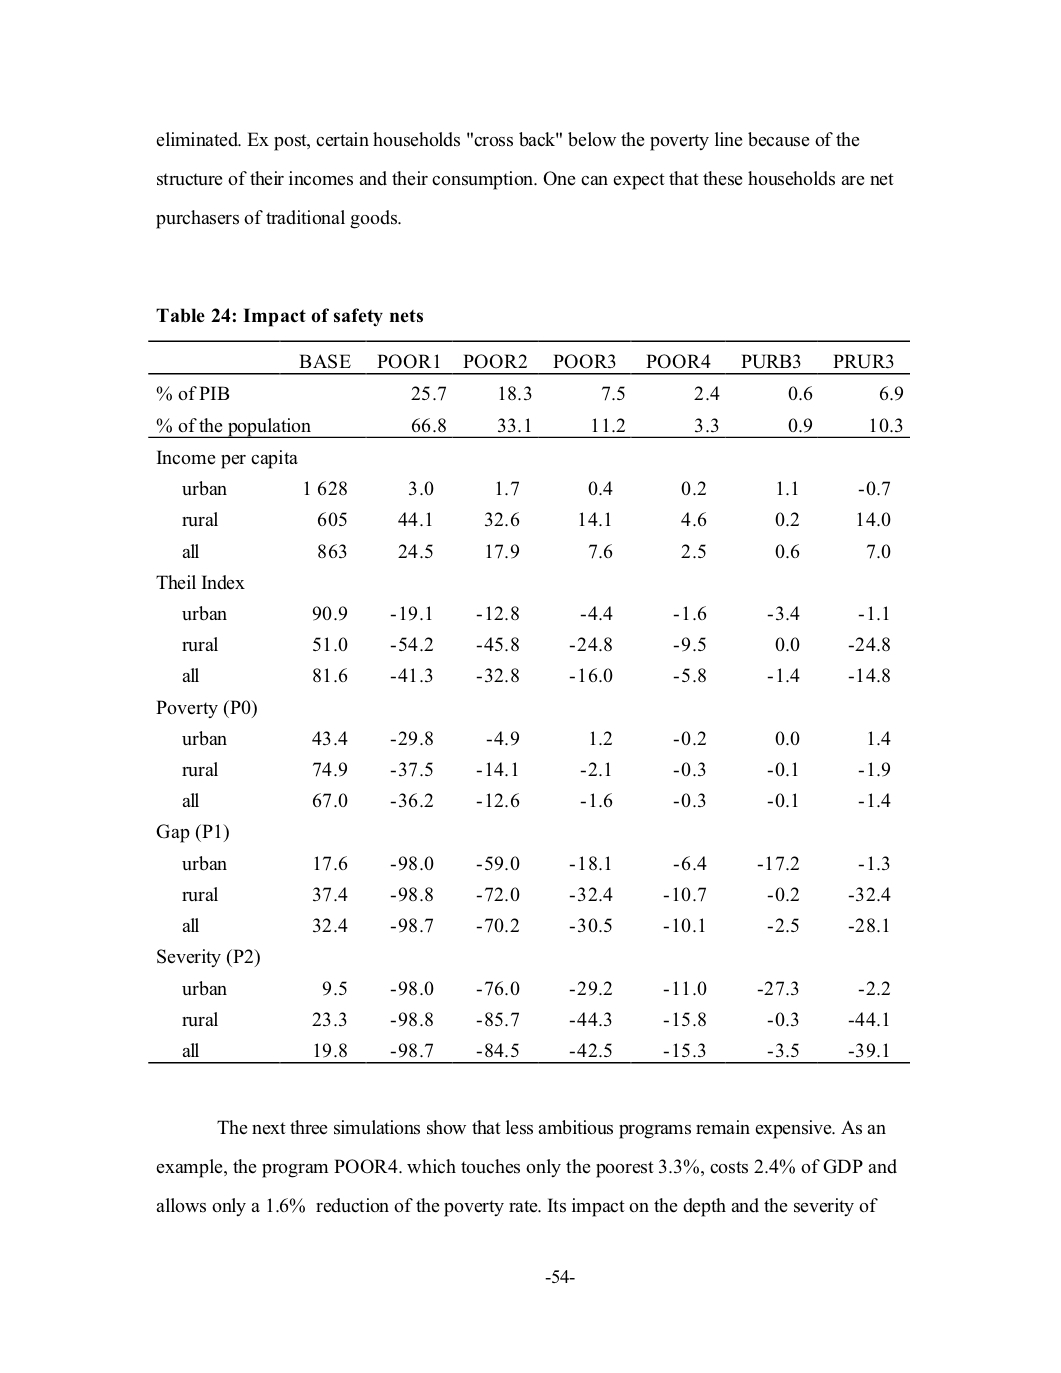Table: (148, 340, 909, 1063)
